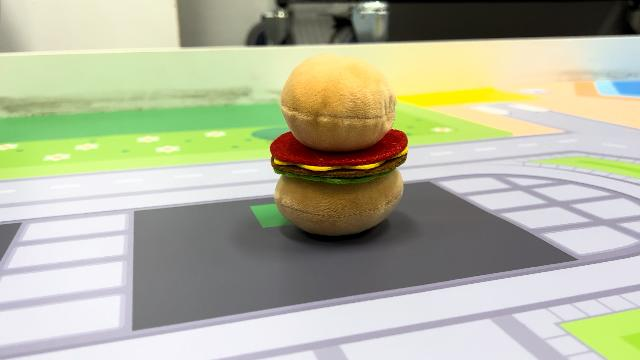burger: (266, 51, 412, 239)
